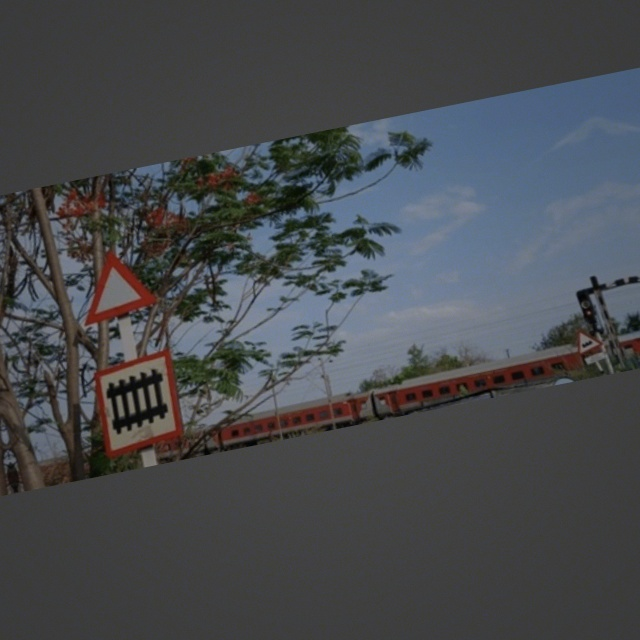Guarded_Level_Crossing: (86, 339, 192, 454)
